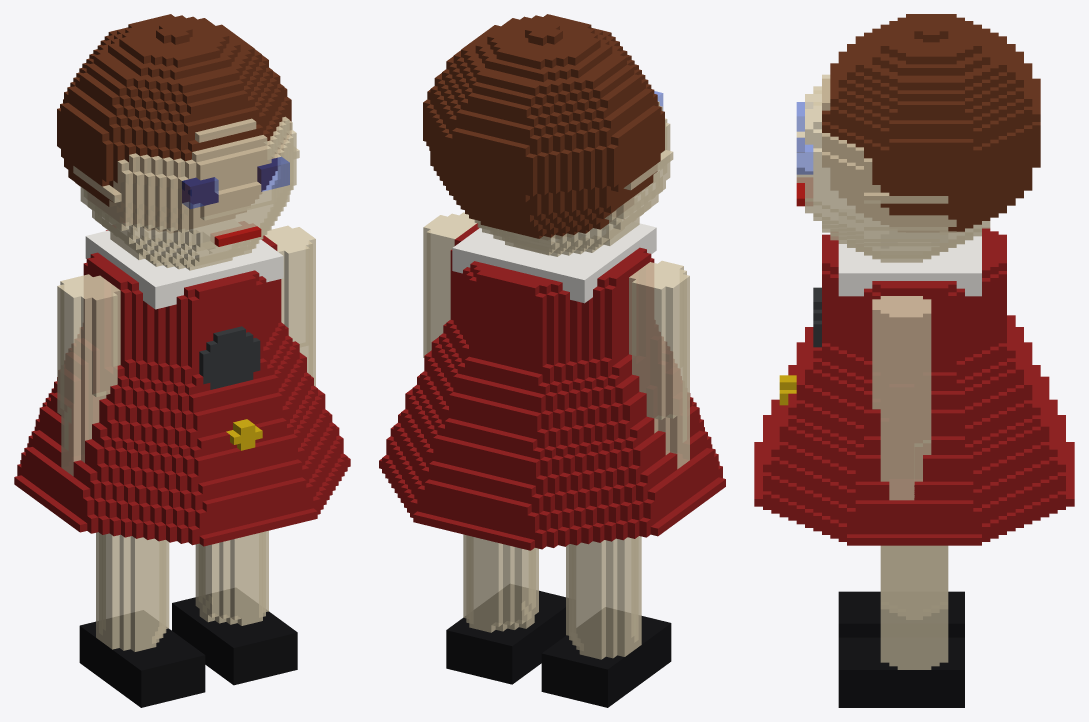
File: talking_doll.glb
3 views of the same model, side by side, from view 1: azimuth 30°, elevation 25°; view 2: azimuth 150°, elevation 25°; view 3: azimuth 270°, elevation 25° (orthographic). The views are drawn at different scales.
Visible parts, largest first — view 1: talking_doll:compound; view 2: talking_doll:compound; view 3: talking_doll:compound.
Part boxes in pixels (bbox=[...]): talking_doll:compound: bbox=[14, 14, 350, 707]; talking_doll:compound: bbox=[379, 14, 725, 707]; talking_doll:compound: bbox=[754, 14, 1074, 707].
Size of the model in its own units: 0.152 by 0.336 by 0.152.
